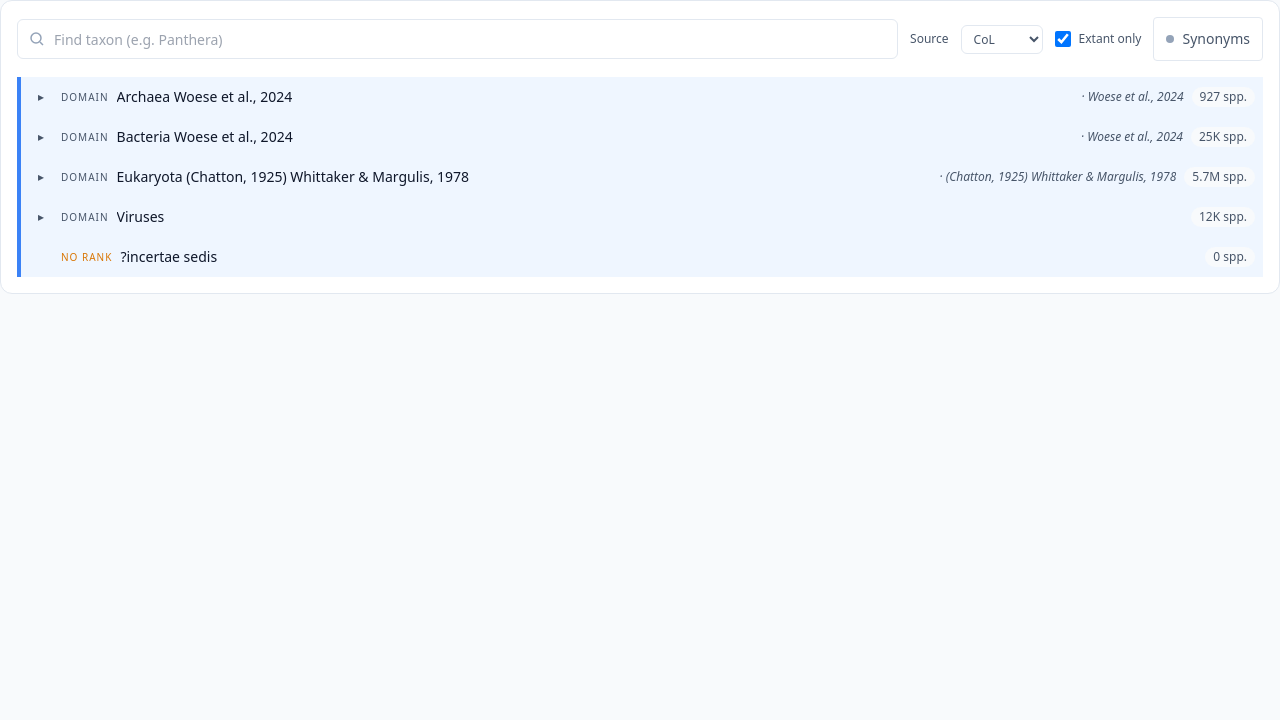
Test: TaxonomicTree tier groups › expanding_tier_group_fetches_first_page
Expected: the element named "Taxonomic tree" is shown, x1=17 y1=77 x2=1263 y2=277
Click the 4th button.
click(85, 177)  # box x1=17 y1=157 x2=1263 y2=197
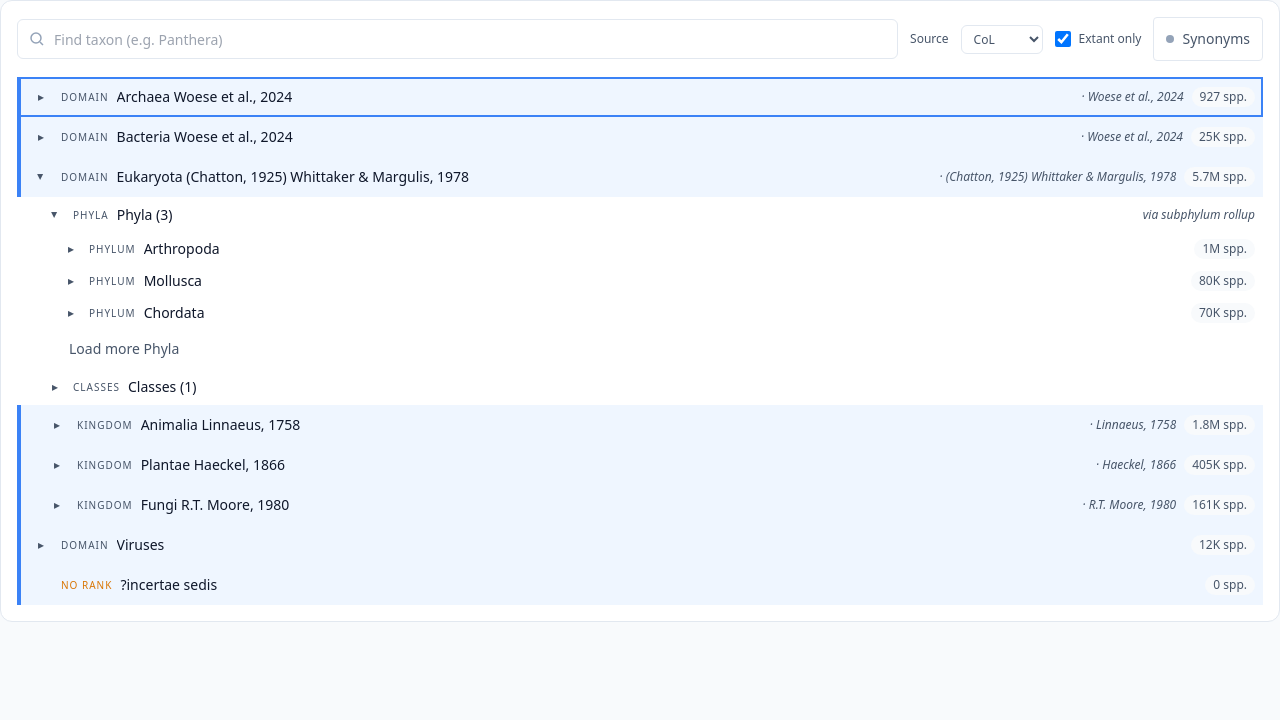
Expected: the element named "Classes group" is shown
Click the class header (initially collapsed) to expand it.
Click the button "▸ Classes Classes (1)".
click(96, 387)  # box x1=17 y1=369 x2=1263 y2=405
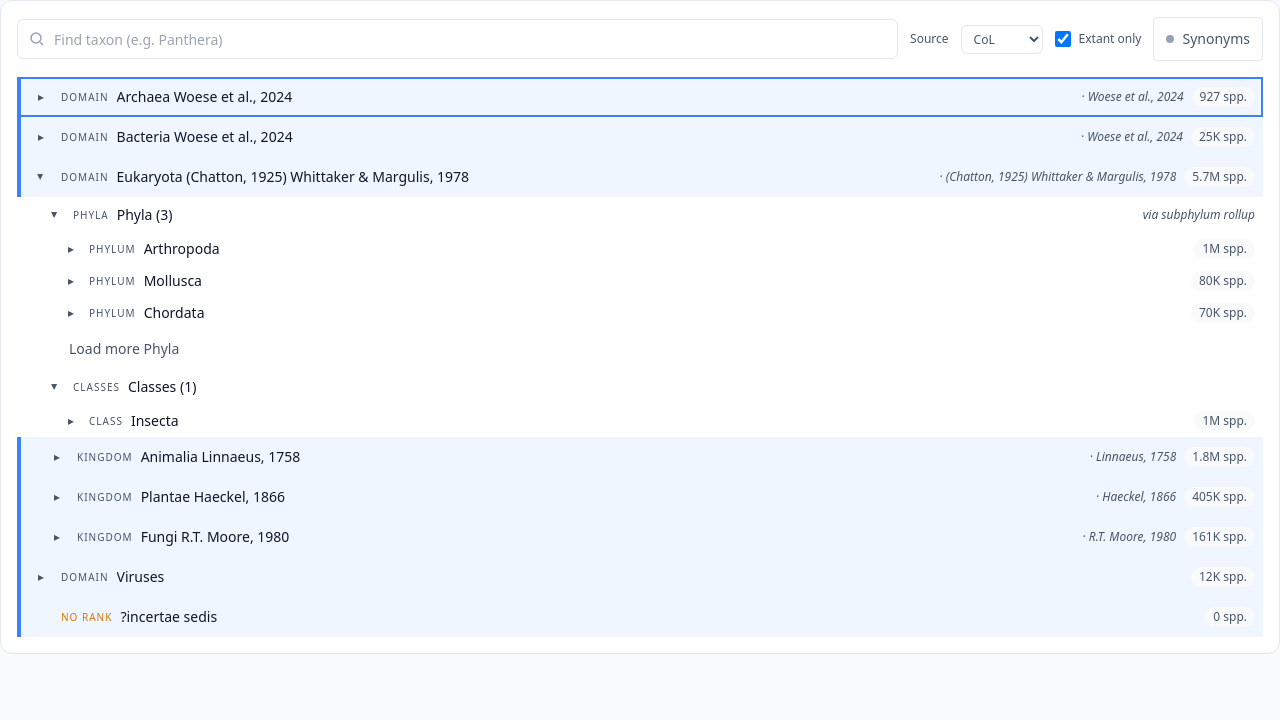
Expected: the text "Insecta" is shown, x1=131 y1=411 x2=178 y2=430
